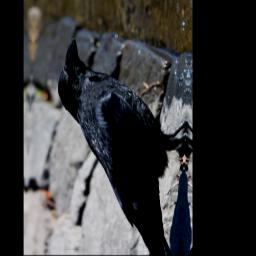Crow: (50, 34, 191, 253)
